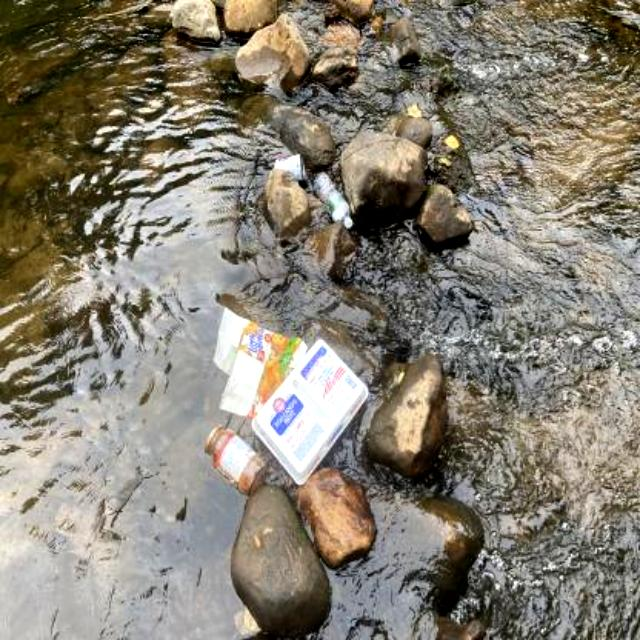Cardboard: (198, 305, 368, 493)
Metal: (272, 150, 308, 183)
Plastic: (311, 164, 355, 233)
